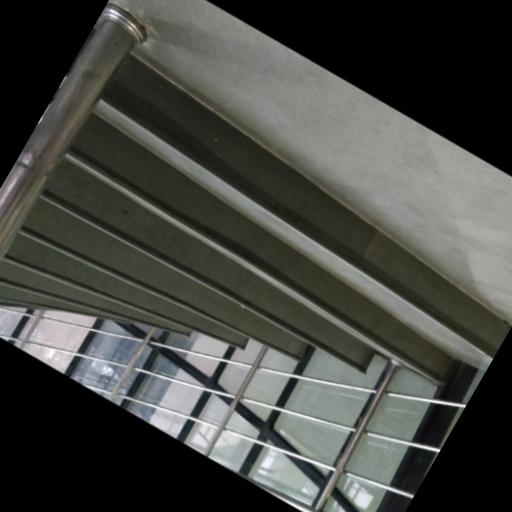stairs: (0, 55, 511, 382)
